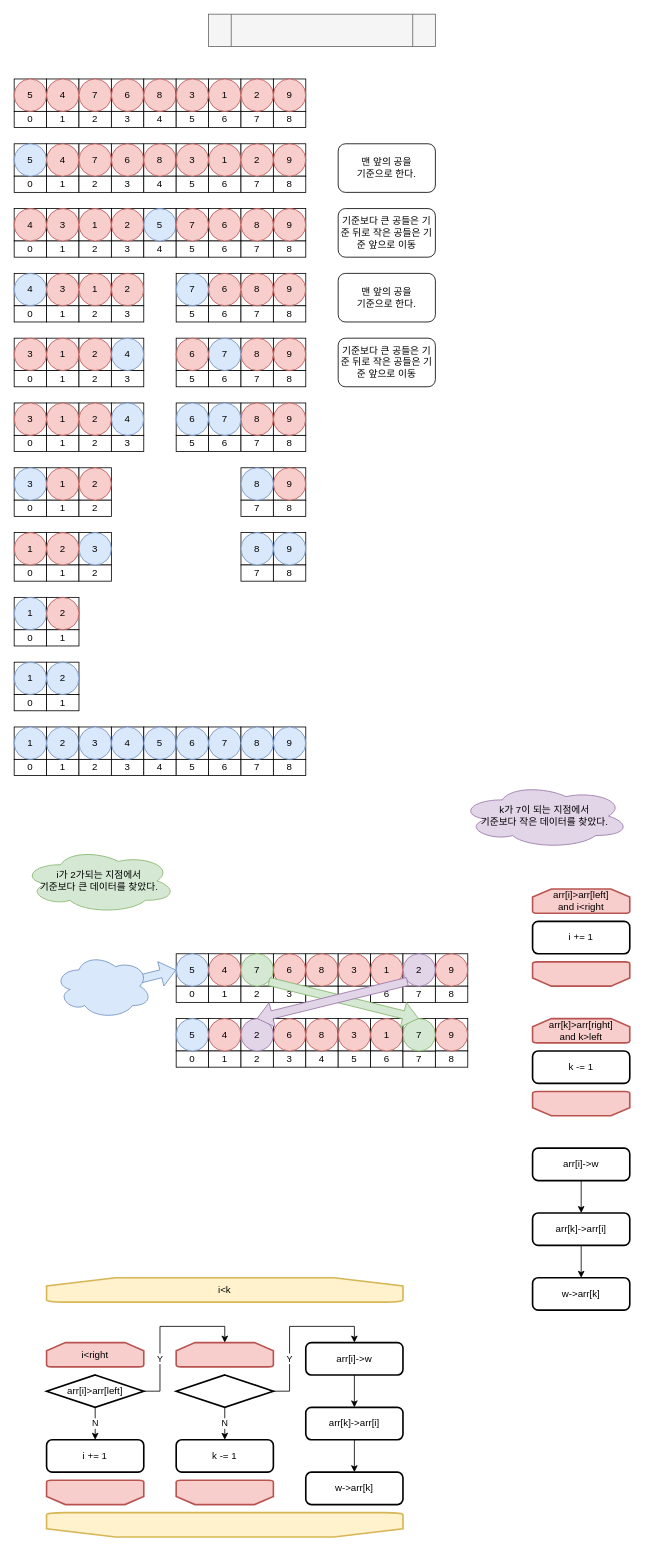
Some shapes in this 645 by 1552 pixel diagram are drawn without their labels. Here are the shapes that lost their labels. From the top down, the centre of each, then its label:
pixel 321 30: Quick Sort
pixel 103 986: 기준값 left
pixel 224 1354: k>left
pixel 224 1391: arr[k]>arr[right]
